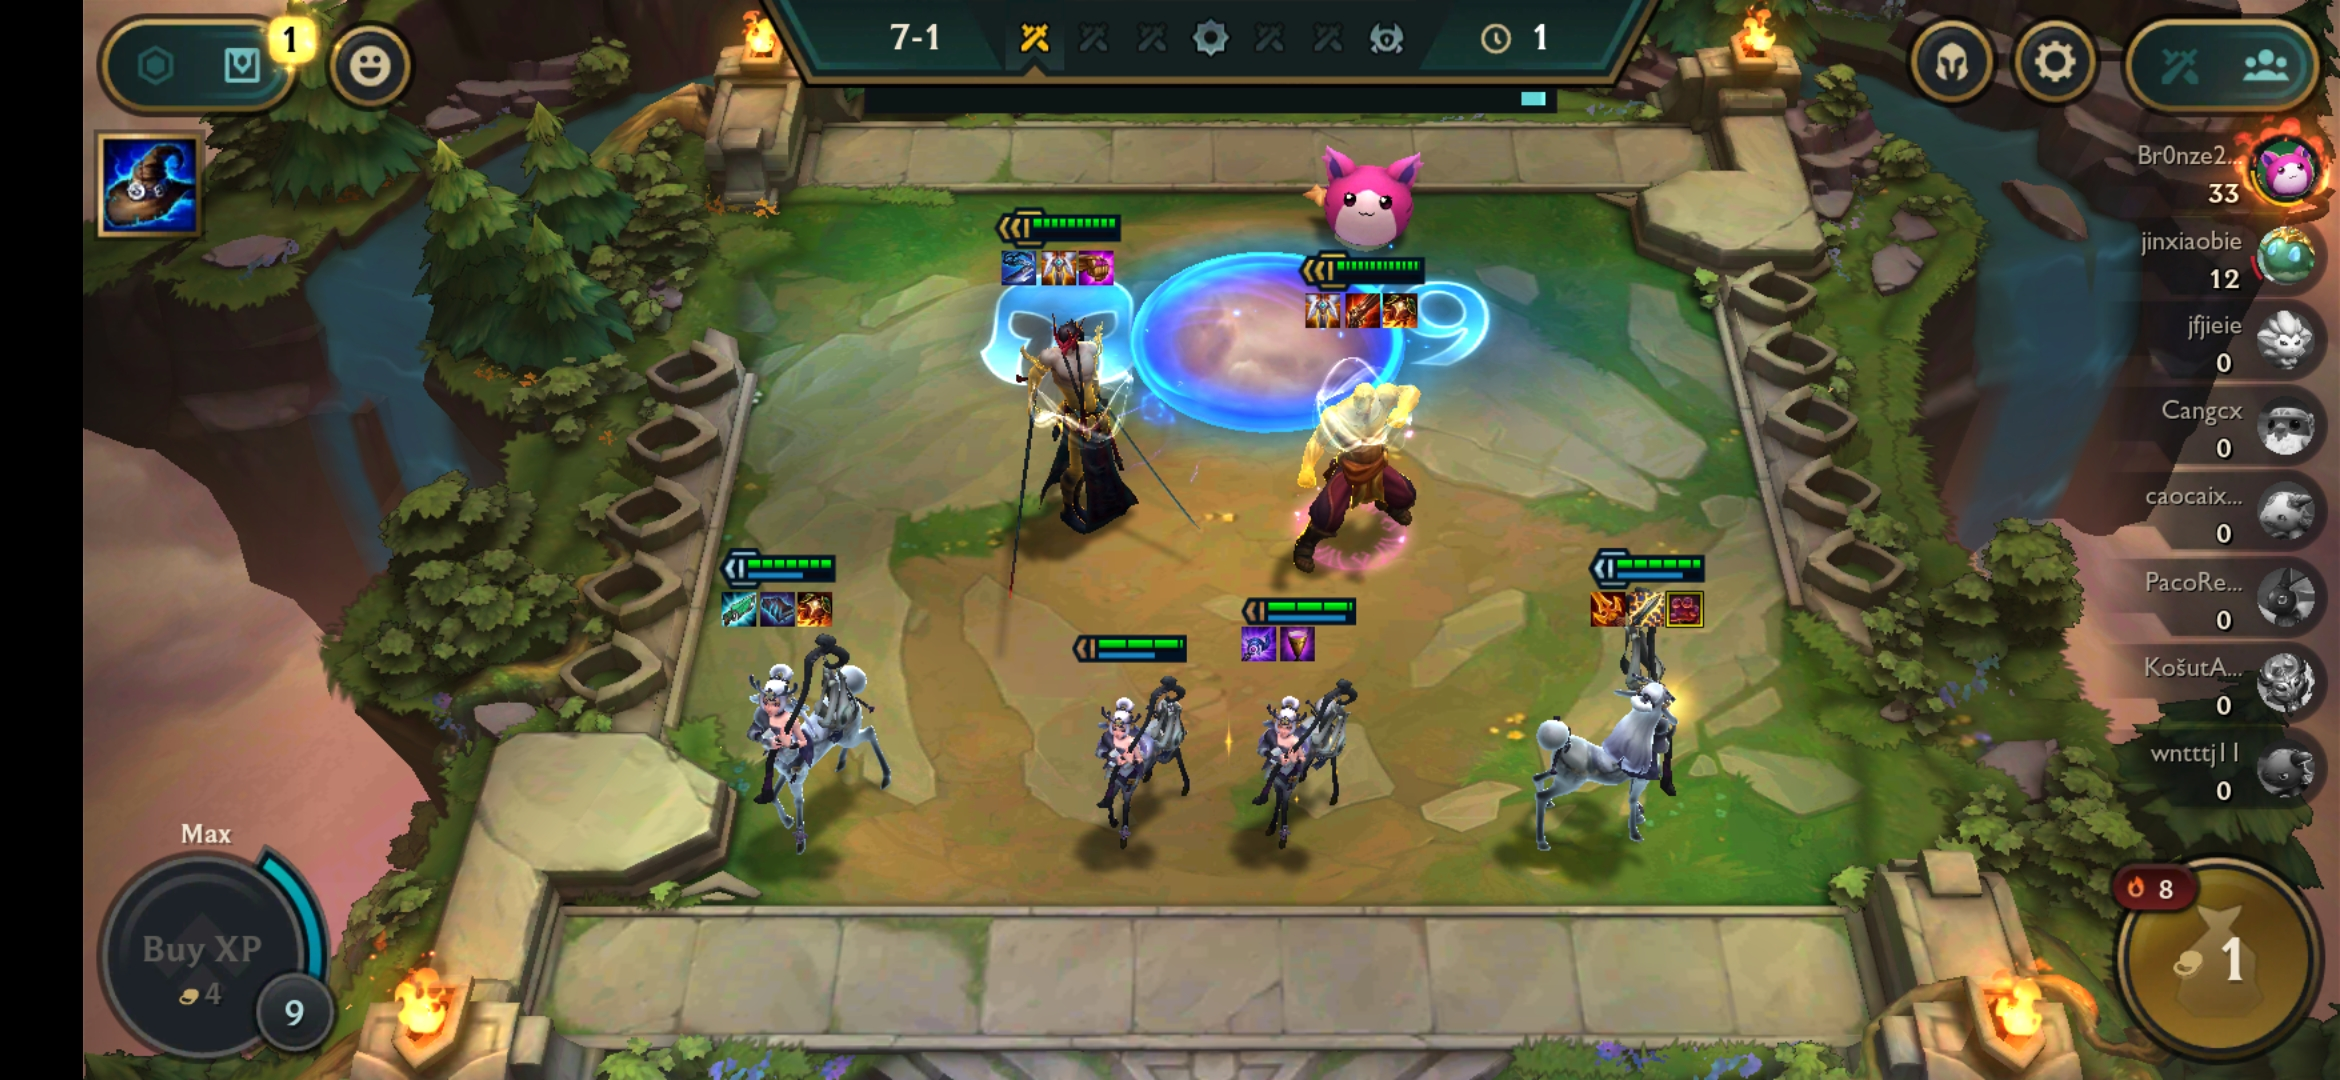1star_lillia: (1221, 582, 1377, 882), (1061, 621, 1209, 885)
2star_lillia: (1504, 531, 1715, 879), (701, 533, 910, 882)
3star_leesin: (1266, 236, 1462, 591)
3star_yone: (966, 185, 1207, 604)
item_chalice: (1277, 622, 1318, 665)
item_deathblade: (1586, 586, 1628, 630)
item_ga: (1301, 288, 1343, 331), (1039, 248, 1080, 289)
item_giantslayer: (998, 245, 1039, 288)
item_gunblade: (719, 588, 761, 630)
item_jeweledgauntlet: (1074, 246, 1116, 289)
item_luden: (1239, 621, 1279, 664)
item_mage: (98, 136, 198, 234)
item_morello: (757, 588, 797, 630)
item_rfc: (1342, 289, 1383, 333)
item_statikk: (1627, 588, 1668, 631)
item_sunfire: (794, 588, 836, 631), (1380, 288, 1422, 331)
item_thief: (1664, 588, 1704, 630)
